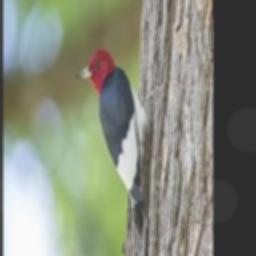Woodpecker: (75, 47, 157, 234)
